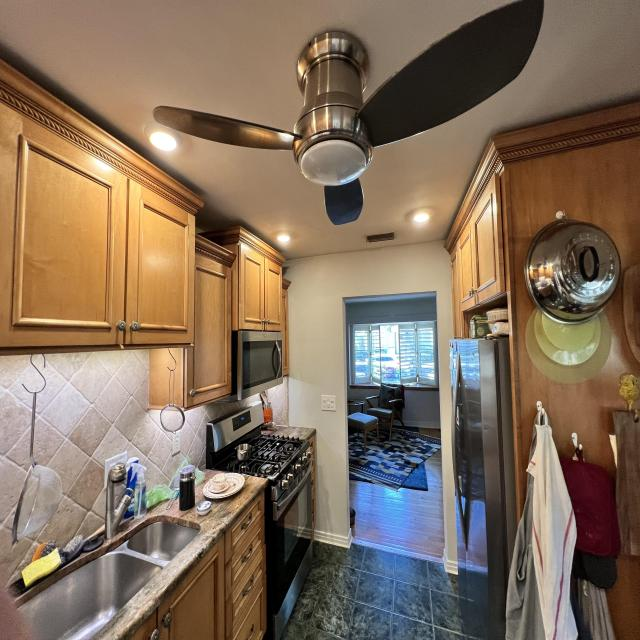Appliance_Fridge: (449, 338, 516, 640)
Appliance_Microwave: (231, 327, 287, 402)
Appliance_Oven: (206, 405, 316, 640)
Appliance_Sink: (16, 522, 198, 640), (104, 463, 126, 539)
Cabinet_Shaker: (0, 60, 284, 409), (126, 503, 266, 640), (446, 140, 510, 335)
Countertop_Granite: (0, 473, 267, 640)
